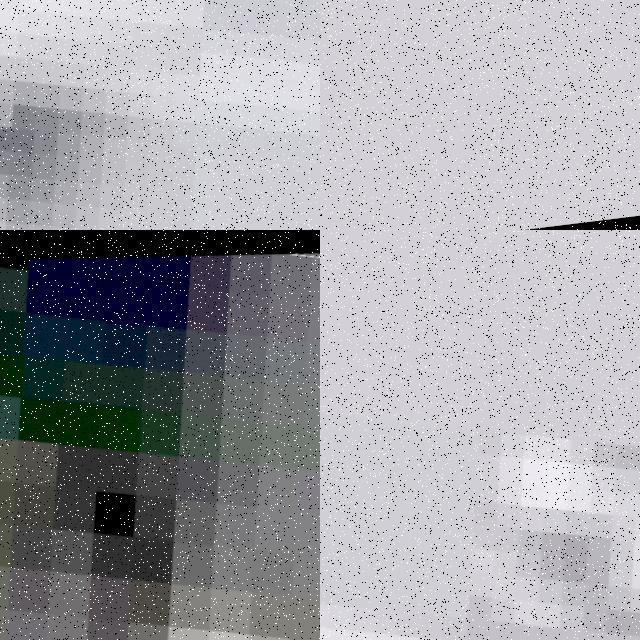0: (320, 230, 640, 640), (0, 0, 320, 230)
drone: (0, 230, 320, 640)
